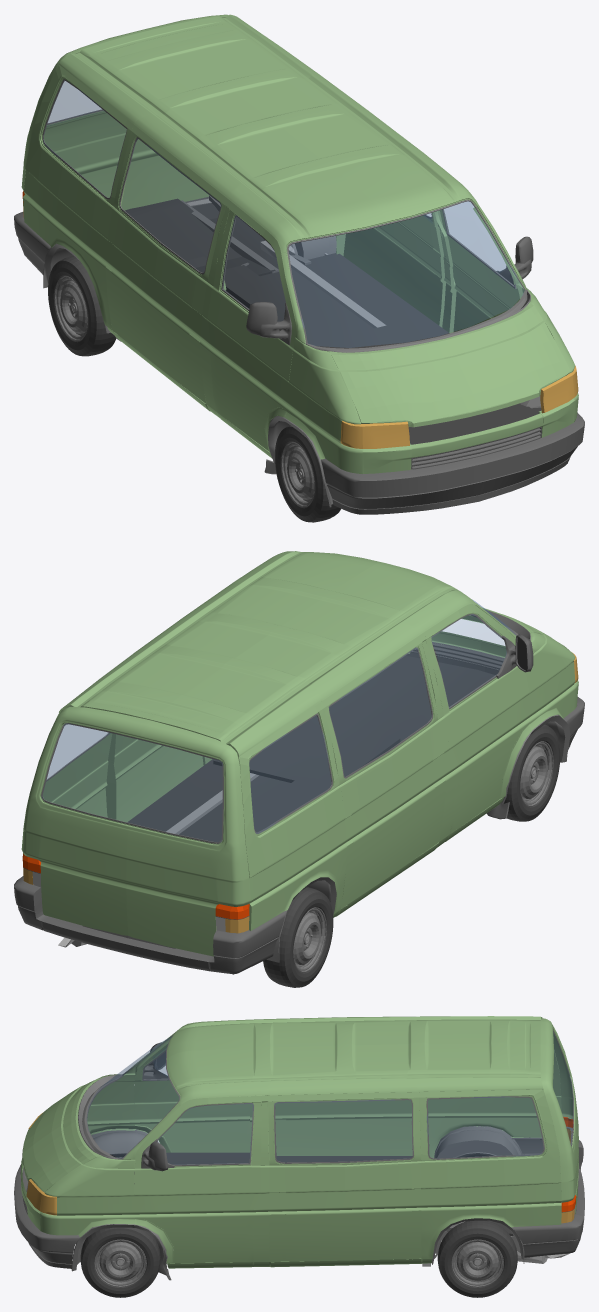
Rendered from SM_WoltsvagenTransporter.fbx.
The picture shows the model from 3 angles, top to bottom: view 1: azimuth 30°, elevation 25°; view 2: azimuth 150°, elevation 25°; view 3: azimuth 270°, elevation 25°; orthographic projection. The views are drawn at different scales.
Parts seen in each view (by area): view 1: BaseModel, Whell3, Whell1; view 2: BaseModel, Whell3, Whell1; view 3: BaseModel, Whell4, Whell2.
Boxes of the visible parts, box(x1,y1,x2,y2) form: BaseModel: box(14, 14, 584, 514); Whell3: box(48, 256, 116, 356); Whell1: box(275, 425, 340, 522); BaseModel: box(14, 551, 584, 974); Whell3: box(263, 887, 333, 987); Whell1: box(503, 724, 560, 821); BaseModel: box(14, 1016, 584, 1280); Whell4: box(437, 1220, 517, 1297); Whell2: box(80, 1227, 160, 1297).
Bounding box in the file's own units: 216 × 194 × 476.
